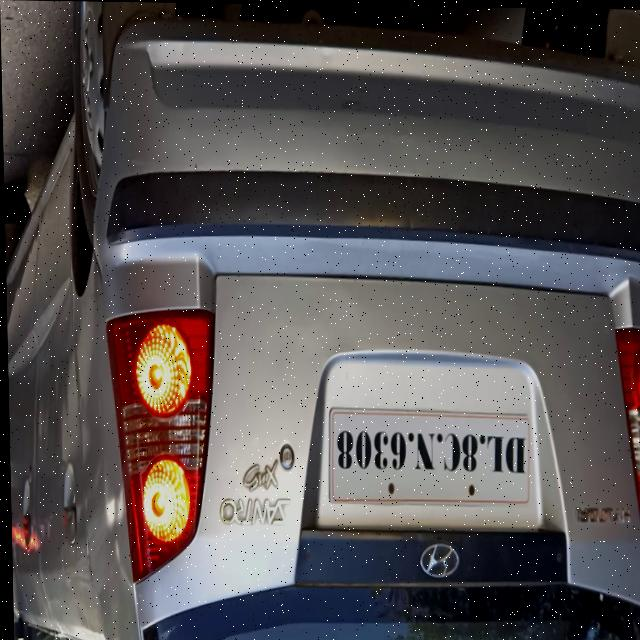plate: (325, 407, 531, 508)
